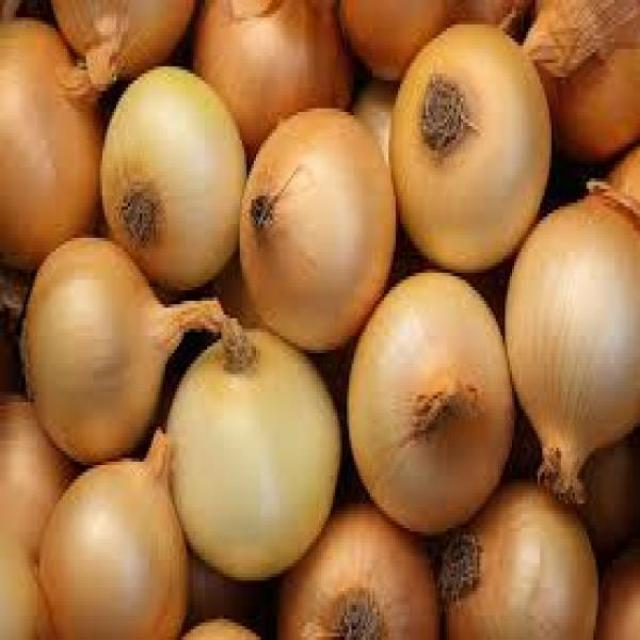Onion: (144, 319, 342, 566), (380, 28, 551, 262), (340, 280, 509, 514), (511, 202, 640, 500), (236, 106, 398, 330), (101, 80, 267, 283), (28, 255, 180, 457), (33, 468, 211, 640), (175, 0, 372, 121), (277, 506, 446, 640), (0, 22, 79, 280), (328, 0, 524, 70), (47, 0, 193, 75)
